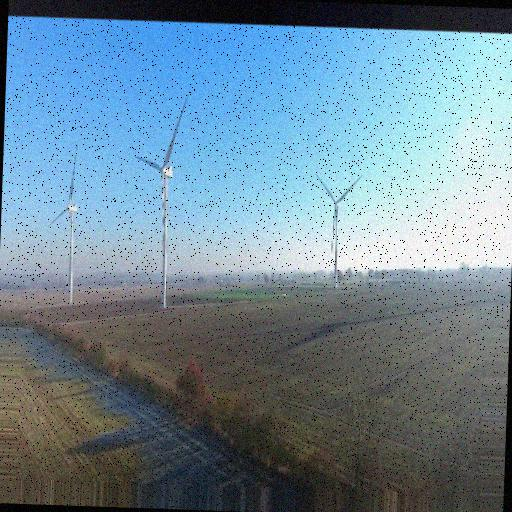wind turbine: (135, 93, 187, 304), (314, 170, 365, 294), (50, 148, 84, 305)
